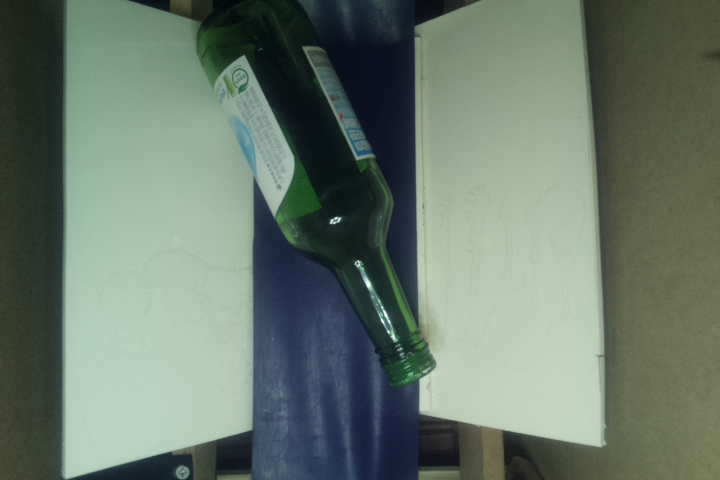soju: (188, 1, 441, 390)
